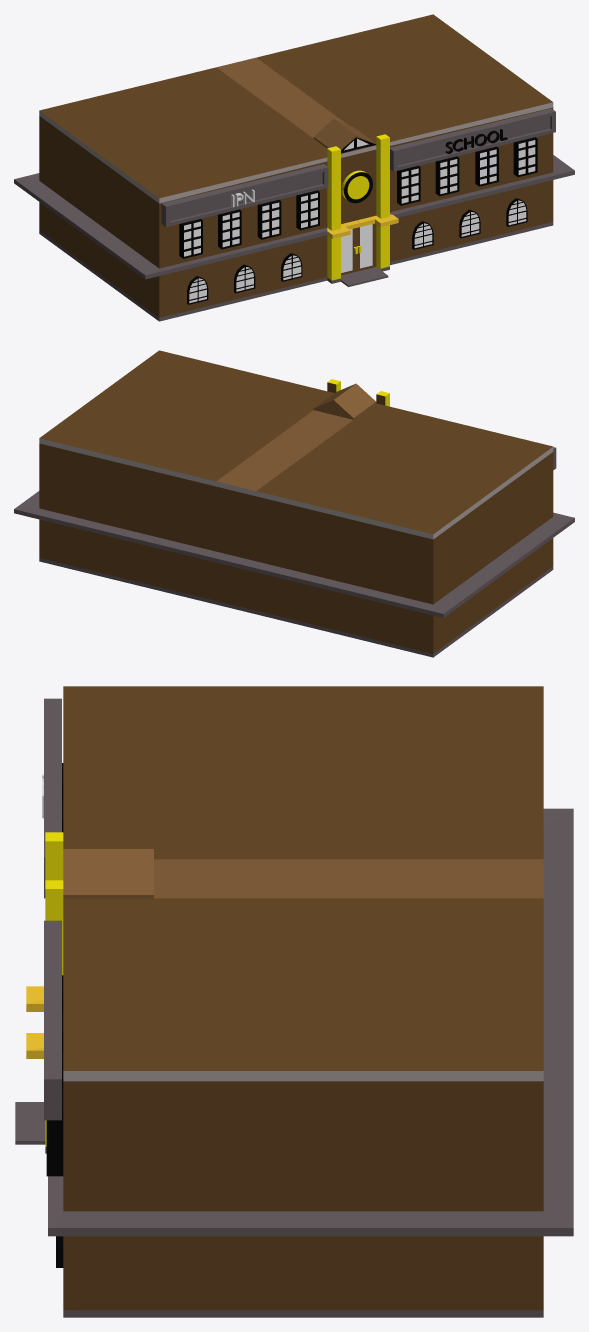
The model's file is school.glb.
3 renders of one model, top to bottom at view 1: azimuth 30°, elevation 25°; view 2: azimuth 150°, elevation 25°; view 3: azimuth 270°, elevation 25°, orthographic. The views are drawn at different scales.
Visible parts, largest first — view 1: Cube; view 2: Cube; view 3: Cube.
Boxes of the visible parts, x1,y1,x2,y2 form: Cube: [14, 14, 574, 321]; Cube: [14, 350, 574, 657]; Cube: [15, 686, 573, 1317].
Size of the model in its own units: 438 by 135 by 246.
1 material, 1 textured.
